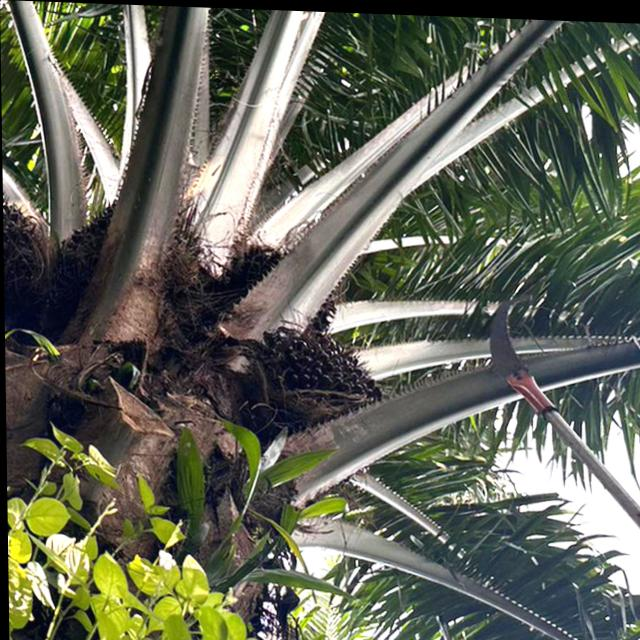unripe: (223, 310, 390, 441)
